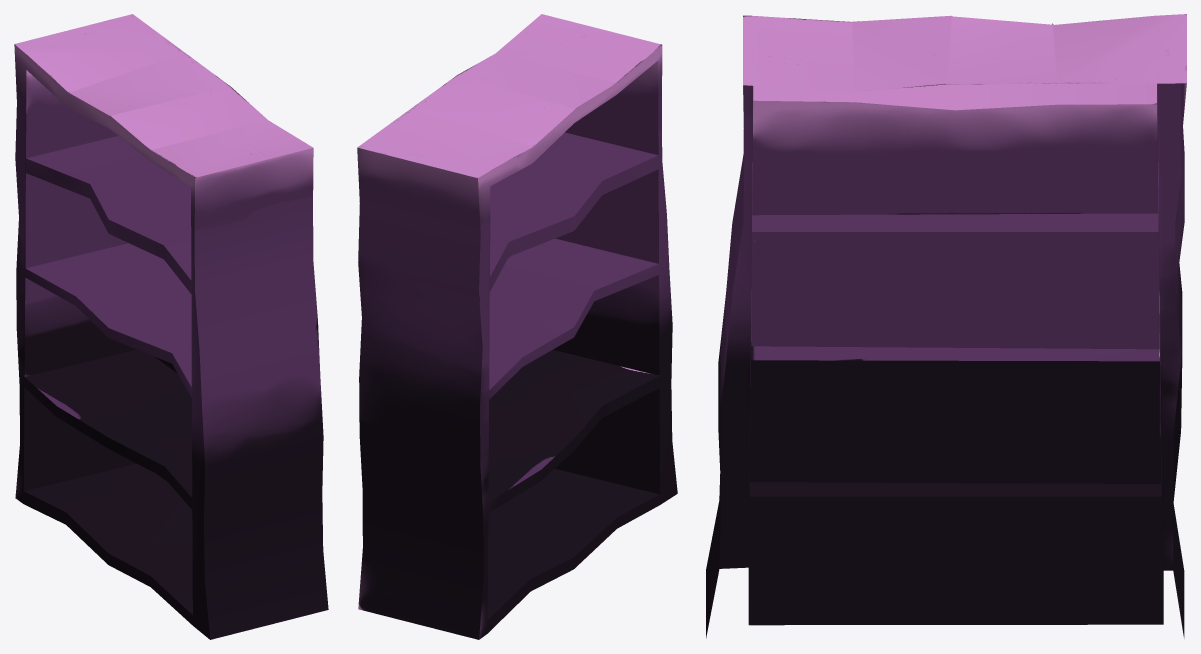
Rendered from BOOKSHELF_OMBRE.fbx.
3 renders of one model, left to right at view 1: azimuth 30°, elevation 25°; view 2: azimuth 150°, elevation 25°; view 3: azimuth 270°, elevation 25°, orthographic. The views are drawn at different scales.
Parts seen in each view (by area): view 1: bookshelf_finished; view 2: bookshelf_finished; view 3: bookshelf_finished.
Boxes of the visible parts, x1,y1,x2,y2 form: bookshelf_finished: (14,14,328,639); bookshelf_finished: (357,14,677,639); bookshelf_finished: (706,14,1186,638).
Size of the model in its own units: 99.81 by 338 by 264.
